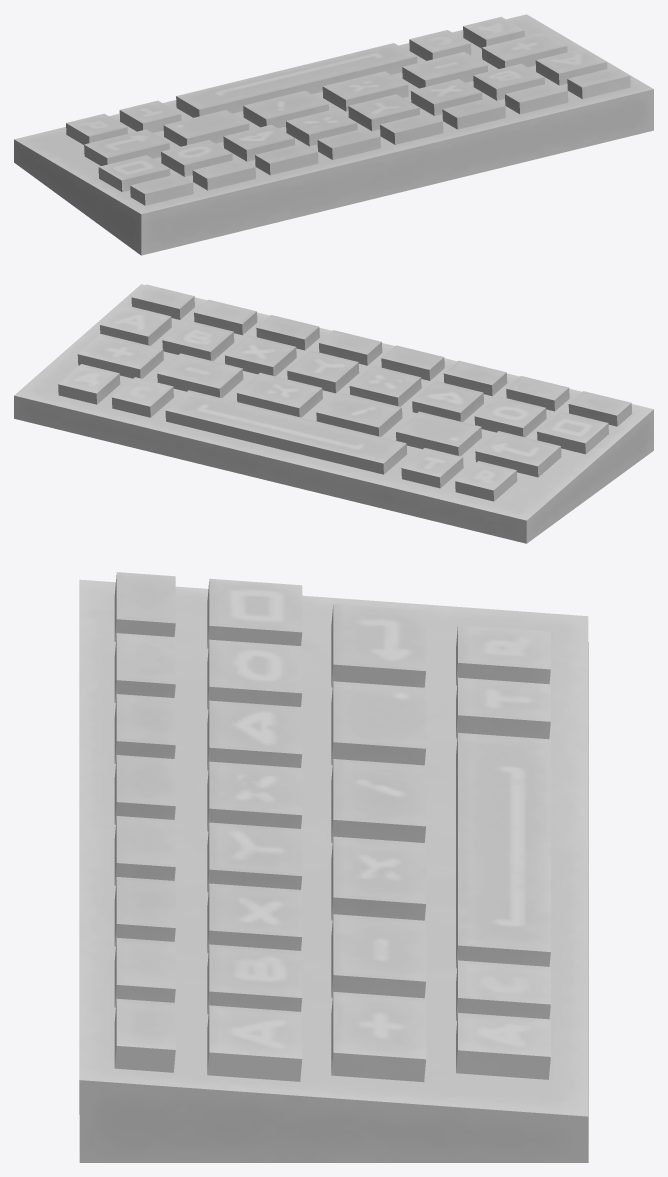
The model's file is Pfb_Computer__9.fbx.
3 views of the same model, one above another, from view 1: azimuth 30°, elevation 25°; view 2: azimuth 150°, elevation 25°; view 3: azimuth 270°, elevation 25° (orthographic). The views are drawn at different scales.
Visible parts, largest first — view 1: Mat_Computer_01_01 _2 1; view 2: Mat_Computer_01_01 _2 1; view 3: Mat_Computer_01_01 _2 1.
Boxes of the visible parts, x1,y1,x2,y2 form: Mat_Computer_01_01 _2 1: (14,14,653,255); Mat_Computer_01_01 _2 1: (14,284,653,543); Mat_Computer_01_01 _2 1: (79,572,588,1162).
Bounding box in the file's own units: 0.707 × 0.0679 × 0.304.
1 material, 1 textured.
